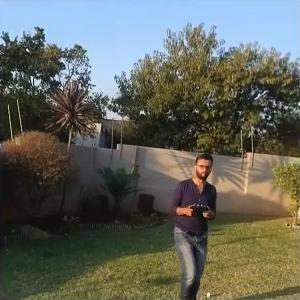follow: (167, 149, 218, 298)
